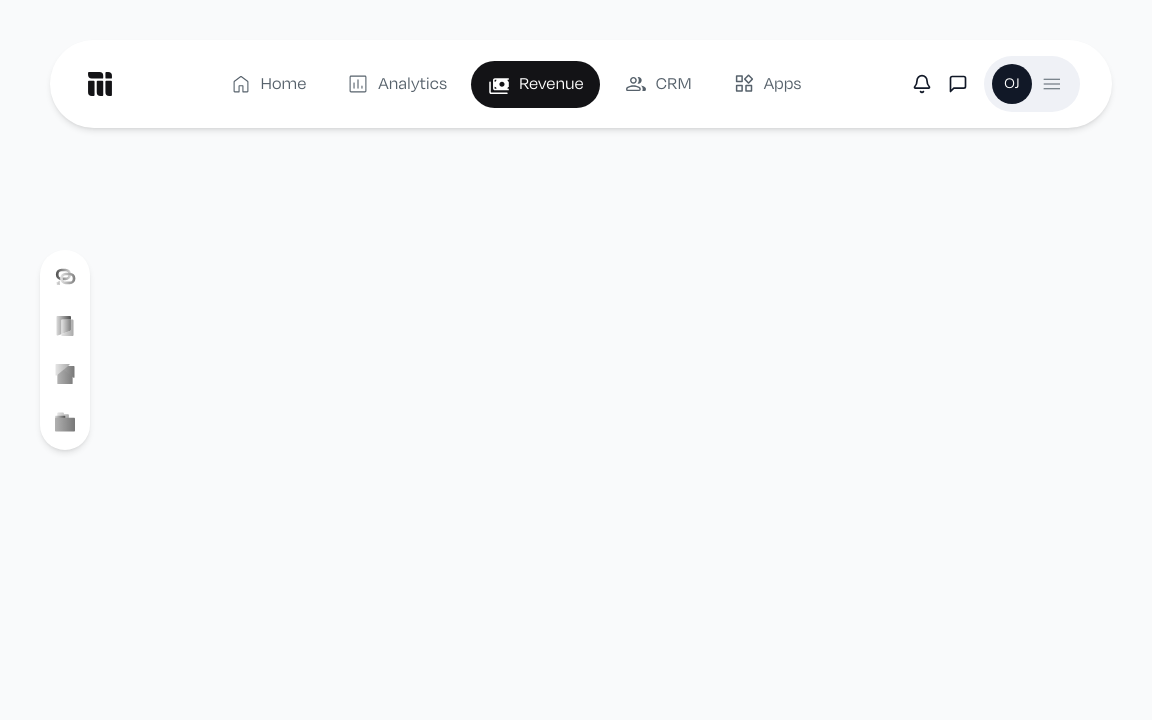
Layout Component › toggles profile dropdown
Open dropdown
Click the button with aria-label "Profile Menu". click: {"x": 1032, "y": 84}
box: [984, 56, 1080, 112]
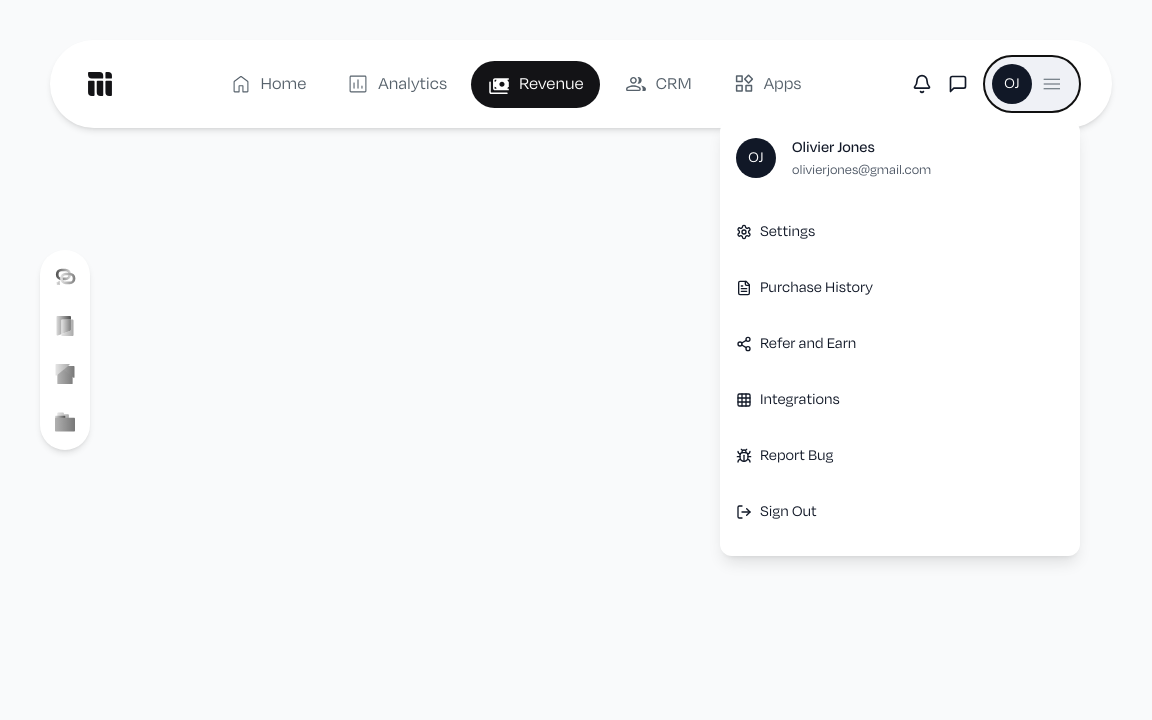
Expected: the link "Settings" is shown, [736, 221, 815, 242]
Expected: the link "Sign Out" is shown, [736, 501, 817, 522]
Close dropdown
Click the button with aria-label "Profile Menu". click: {"x": 1032, "y": 84}
box: [984, 56, 1080, 112]
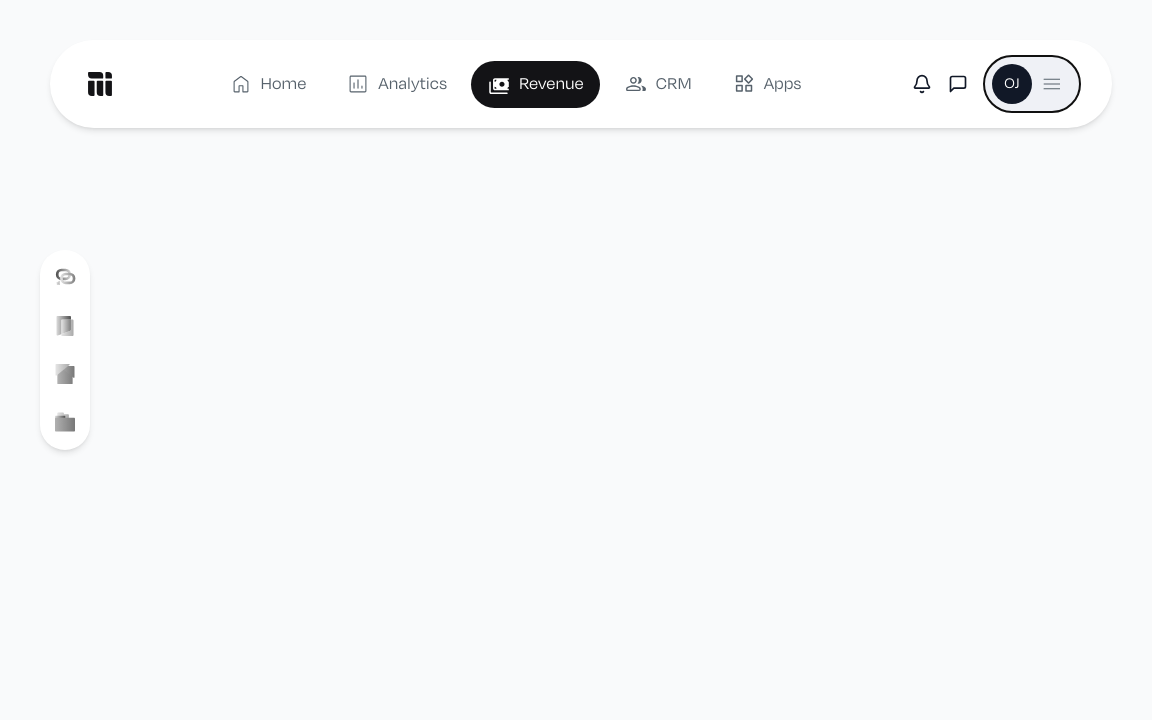
Expected: the link "Settings" is gone
